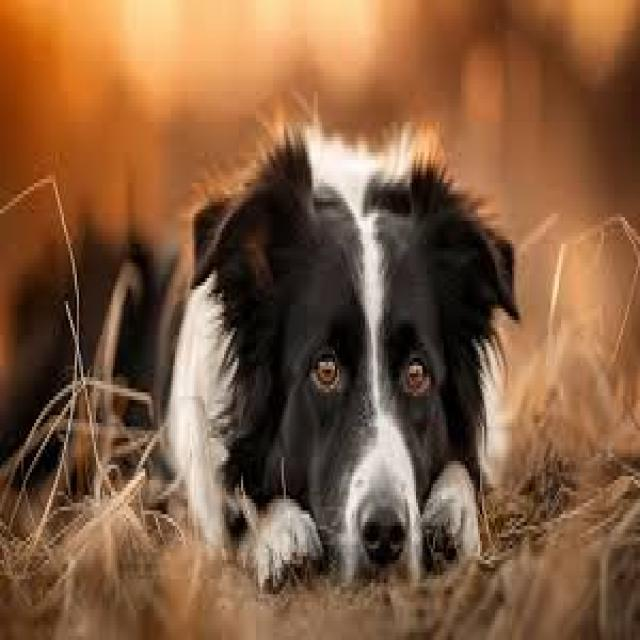ALASKAN_MALAMUTE: (166, 99, 523, 604)
